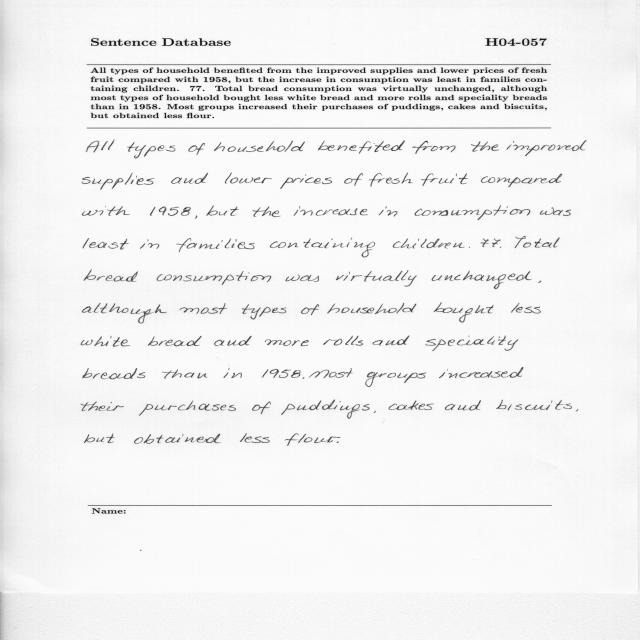word: (270, 238, 375, 258), (432, 271, 532, 289), (415, 206, 530, 221), (82, 303, 167, 323), (281, 400, 370, 419), (157, 271, 271, 285), (139, 400, 236, 416), (426, 336, 518, 351), (336, 270, 417, 287), (507, 140, 587, 156), (82, 173, 155, 190), (318, 140, 405, 154), (434, 303, 494, 323), (176, 238, 255, 252), (481, 174, 562, 187), (214, 141, 305, 152), (328, 303, 417, 314), (365, 372, 427, 387), (439, 368, 523, 379), (134, 434, 221, 444), (280, 174, 332, 189), (128, 142, 176, 158), (496, 400, 572, 410), (294, 206, 368, 216), (393, 239, 465, 249), (285, 433, 340, 446), (242, 304, 286, 320), (84, 269, 138, 282), (83, 368, 145, 379), (369, 173, 413, 187), (421, 173, 468, 186), (412, 141, 456, 154), (515, 236, 560, 248), (148, 336, 202, 346), (81, 336, 130, 347), (180, 303, 228, 314), (83, 238, 129, 249), (82, 206, 130, 216), (225, 173, 271, 183), (162, 369, 207, 379), (309, 368, 353, 378), (81, 402, 124, 412), (150, 206, 191, 216), (171, 173, 208, 184), (389, 401, 434, 410), (323, 336, 363, 346), (445, 400, 481, 411), (214, 336, 252, 346), (206, 205, 239, 216), (261, 369, 301, 378), (87, 140, 115, 152), (373, 336, 410, 345), (511, 303, 541, 314), (471, 141, 499, 152), (265, 340, 309, 347), (240, 433, 270, 443), (253, 207, 281, 217), (540, 207, 571, 216), (85, 434, 115, 443), (344, 173, 363, 186), (252, 402, 271, 415), (285, 275, 319, 282), (379, 206, 398, 217), (188, 143, 205, 155), (301, 305, 319, 316), (140, 239, 159, 249), (223, 368, 242, 378), (481, 239, 501, 248), (195, 215, 197, 219), (538, 281, 541, 283), (303, 377, 305, 379), (374, 411, 376, 413), (576, 409, 578, 411), (337, 441, 339, 443), (469, 247, 470, 248), (500, 247, 501, 248)
